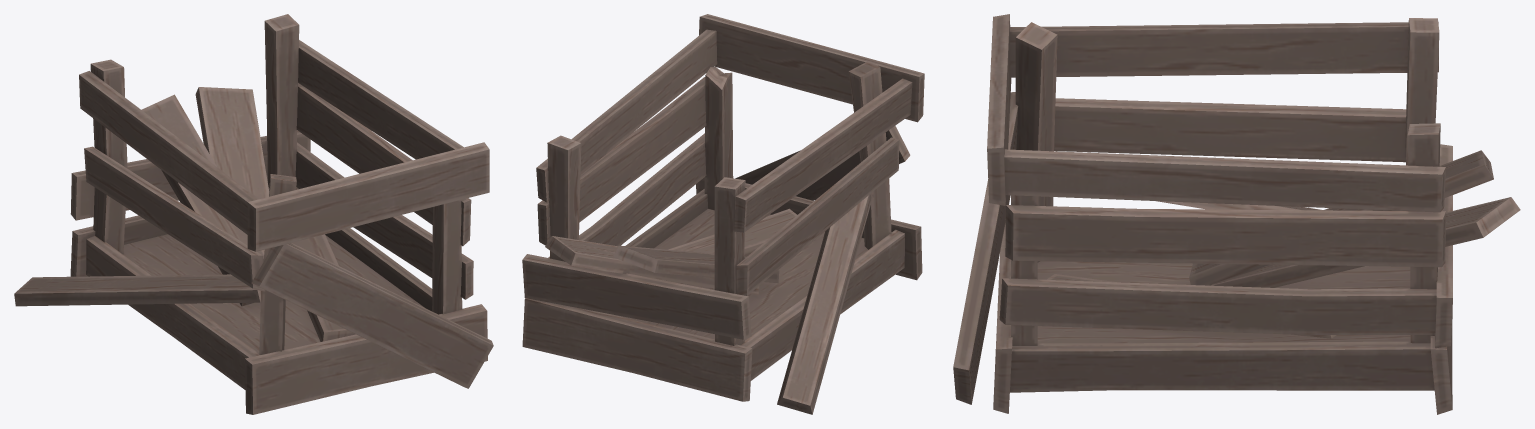
The picture shows the model from 3 angles, left to right: view 1: azimuth 30°, elevation 25°; view 2: azimuth 150°, elevation 25°; view 3: azimuth 270°, elevation 25°; orthographic projection. The views are drawn at different scales.
Visible parts, largest first — view 1: submesh_0; view 2: submesh_0; view 3: submesh_0.
Part boxes in pixels (x1,y1,x2,y2): submesh_0: [14, 14, 493, 414]; submesh_0: [522, 14, 924, 414]; submesh_0: [953, 14, 1520, 414].
Bounding box in the file's own units: 0.7065 × 0.5252 × 0.9557.
Materials: 1 (1 with a texture image).
